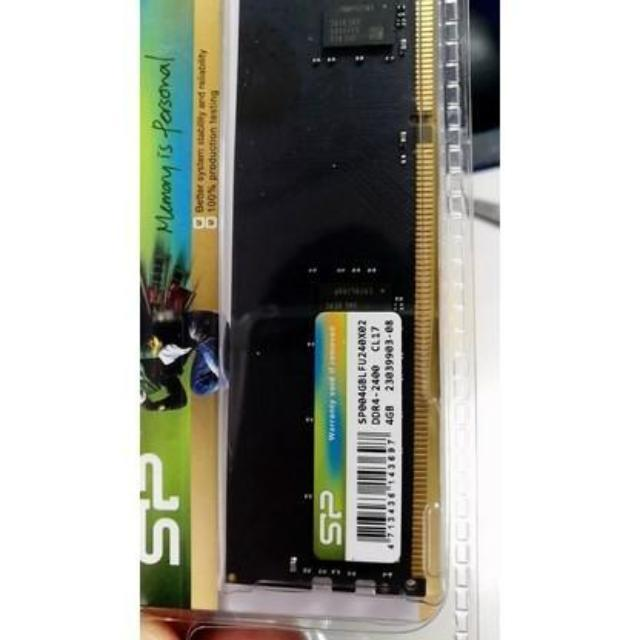RAM: (229, 0, 446, 609)
